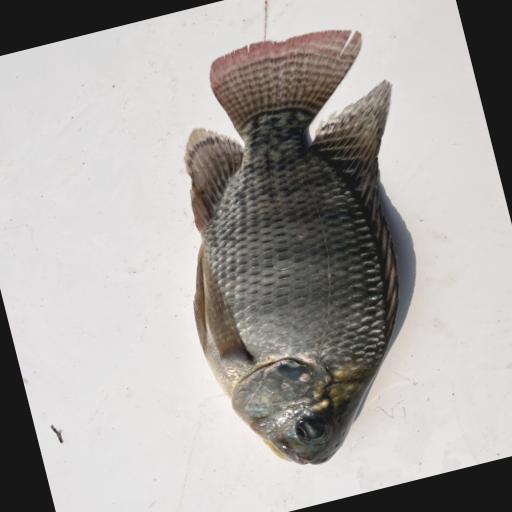Tilapia: (133, 13, 477, 486)
